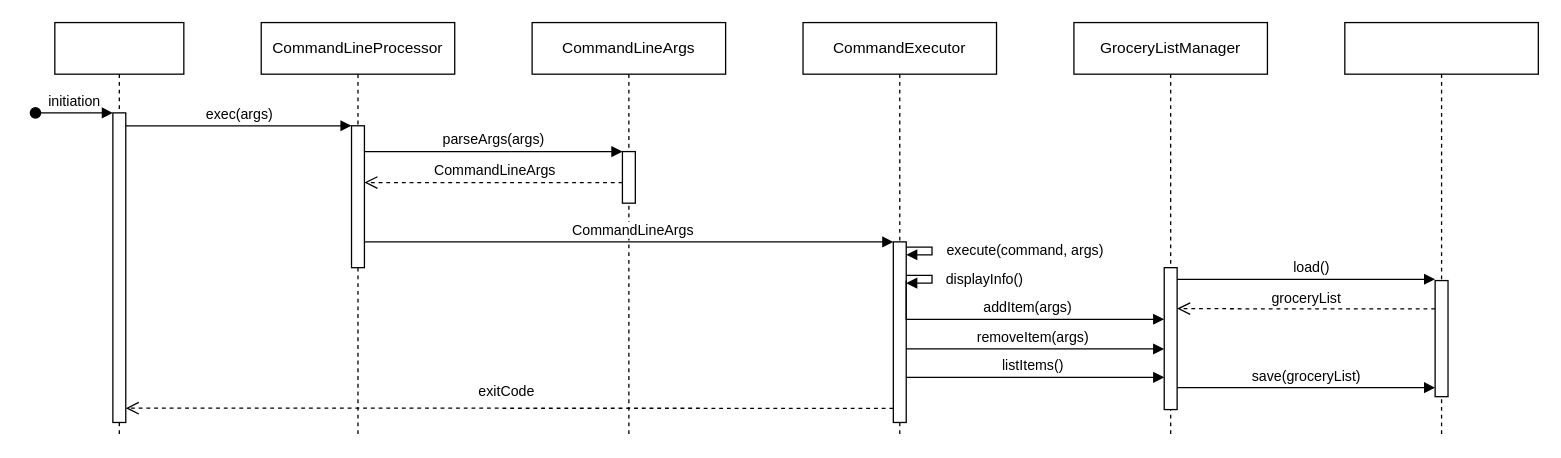
This 1561x458 diagram has some shape labels left out. Each missing label, with the box of its shape:
GroceryListDAO: (1344, 21, 1538, 435)
Main: (54, 21, 184, 435)
